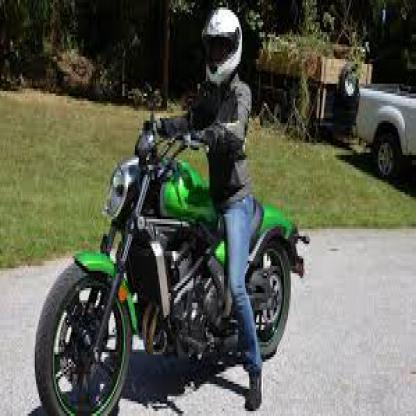Motorcycle: (35, 131, 310, 414)
